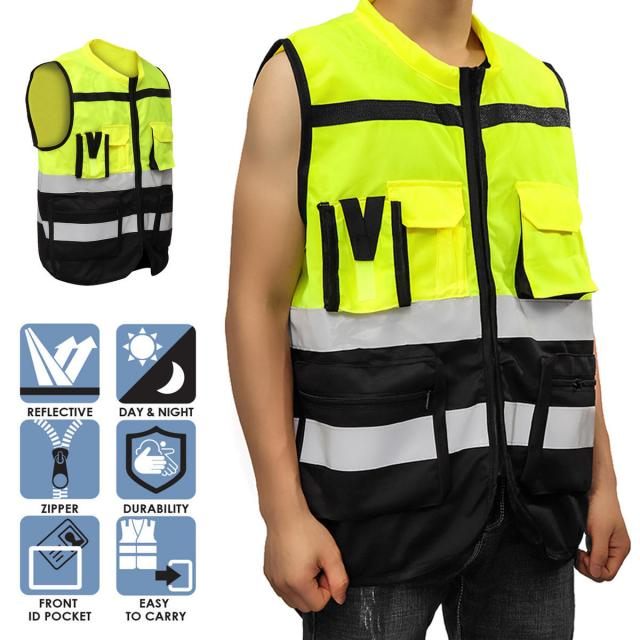Reflective-Jacket: (261, 6, 602, 322), (22, 35, 180, 289)
